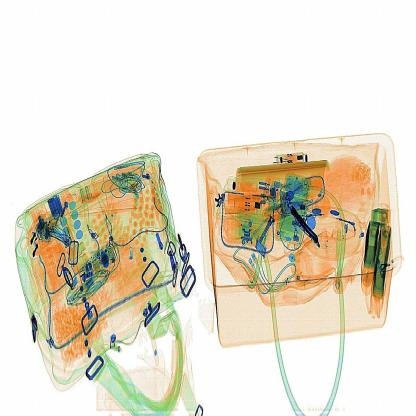knife: (284, 198, 332, 261)
